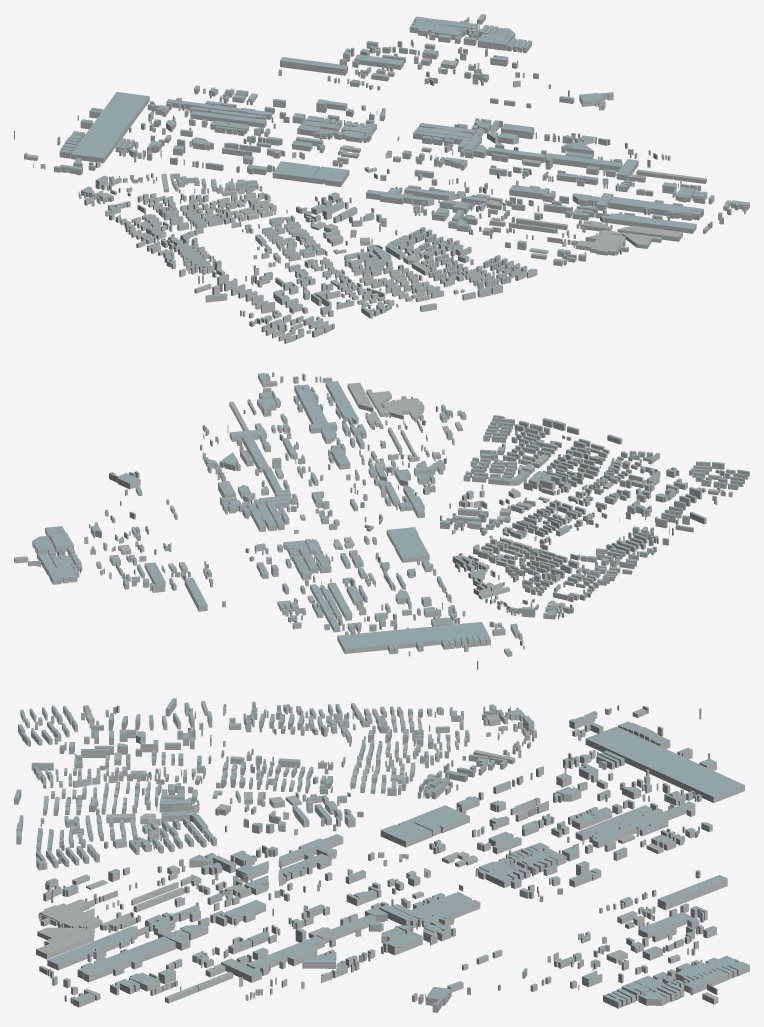
Rendered from far.glb.
3 renders of one model, top to bottom at view 1: azimuth 30°, elevation 25°; view 2: azimuth 150°, elevation 25°; view 3: azimuth 270°, elevation 25°, orthographic. The views are drawn at different scales.
Bounding box in the file's own units: 2183 × 37.66 × 2207.
